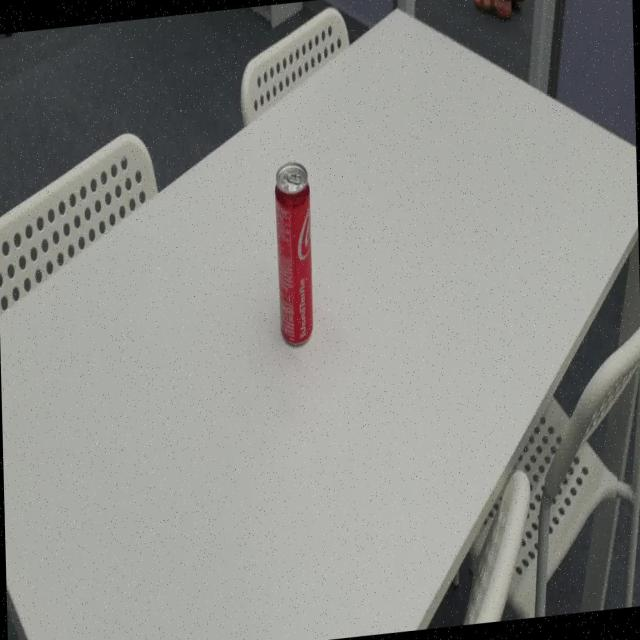coca-cola: (272, 156, 315, 356)
